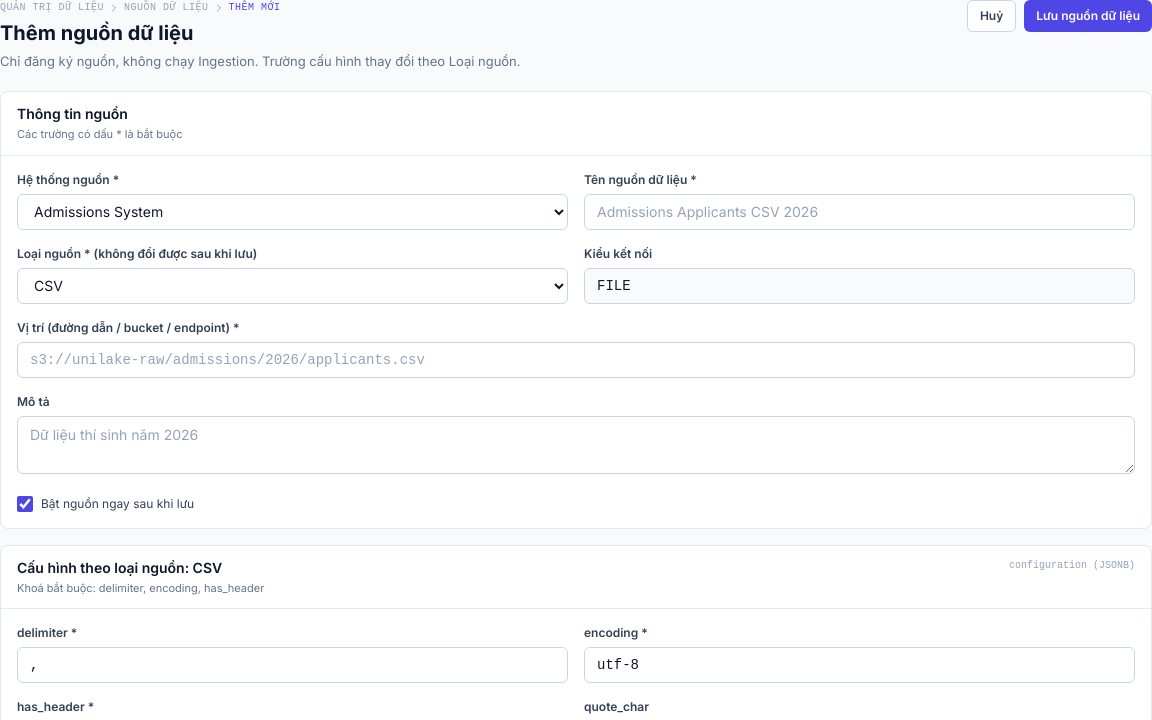
Test: SourceFormView (thêm mới) › hiện lỗi chi tiết backend trả về
Type "A" into the field labelled "Tên nguồn dữ liệu *" at coordinates (860, 212), box [584,194,1135,230]
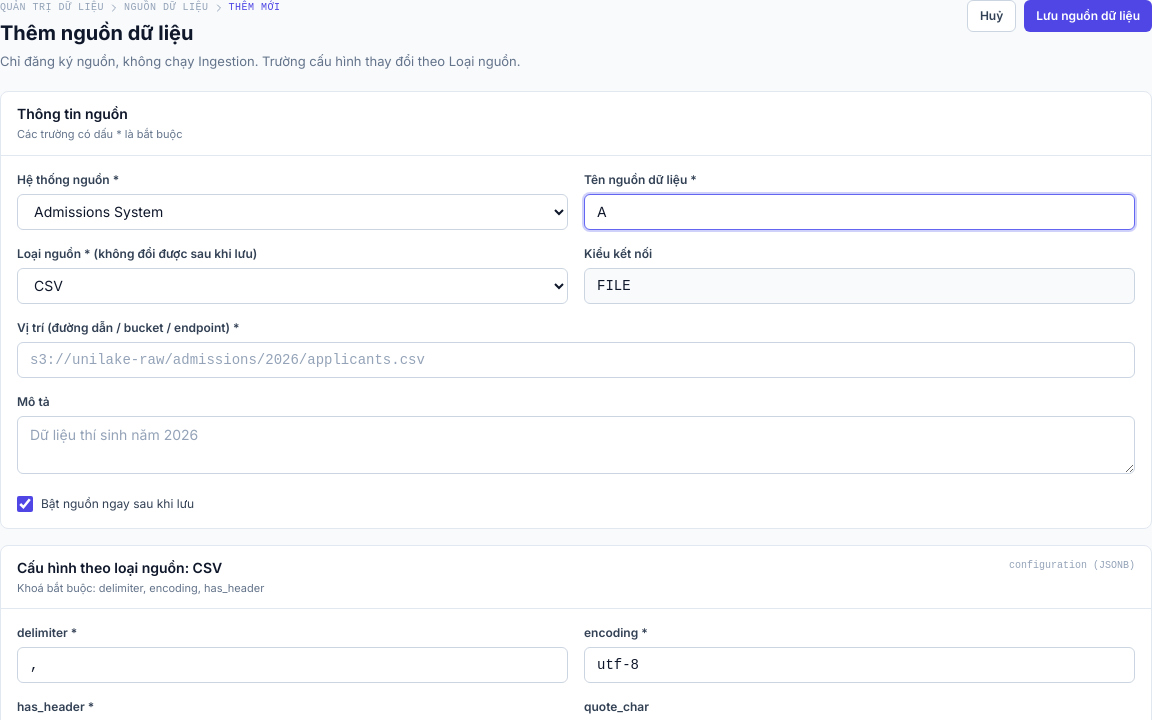
Type "s3://a" into the field labelled "Vị trí (đường dẫn / bucket / endpoint) *" at coordinates (576, 360), box [17,342,1135,378]
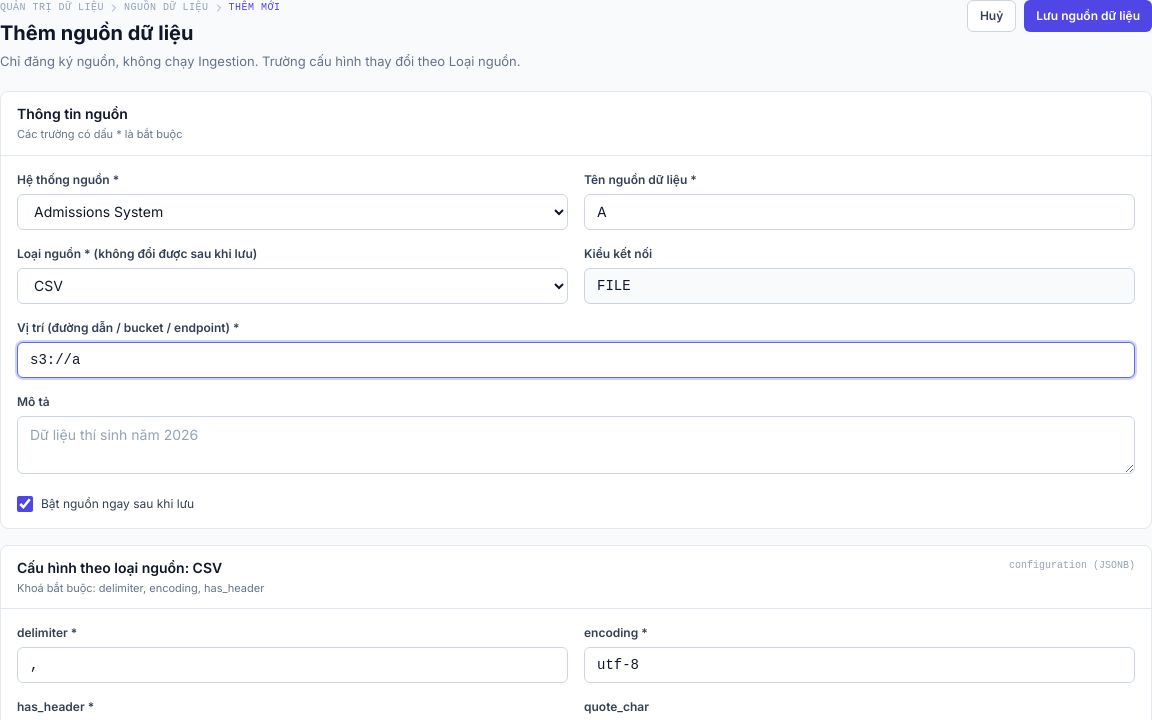
Click the button "Lưu nguồn dữ liệu" at coordinates (1088, 16), box [1024,0,1151,32]
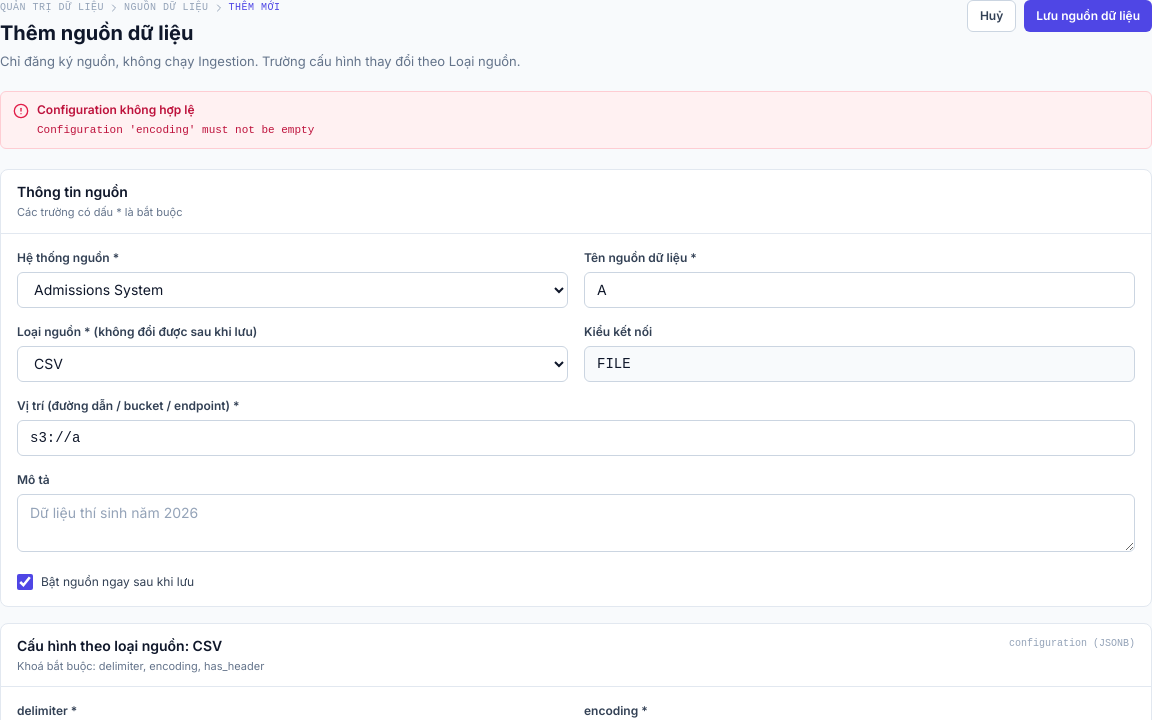
Expected: the message shows "Configuration không hợp lệ", [37,102,194,117]
Expected: the message shows "Configuration 'encoding' must not be empty", [37,124,314,136]
